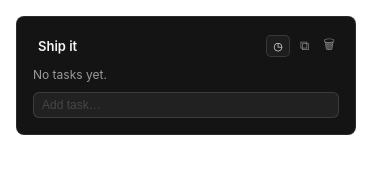
Test: AnimalDetail title editing › empty title reverts and shows error
Clear the field named "focus title" at {"x": 146, "y": 46}, box x1=33 y1=35 x2=260 y2=57
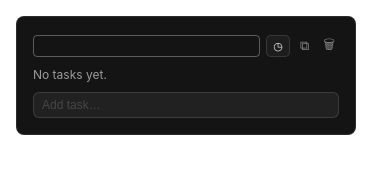
Press Tab
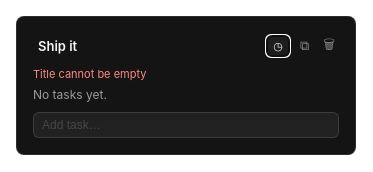
Check: the text "Title cannot be empty" is shown, box x1=33 y1=67 x2=146 y2=81
